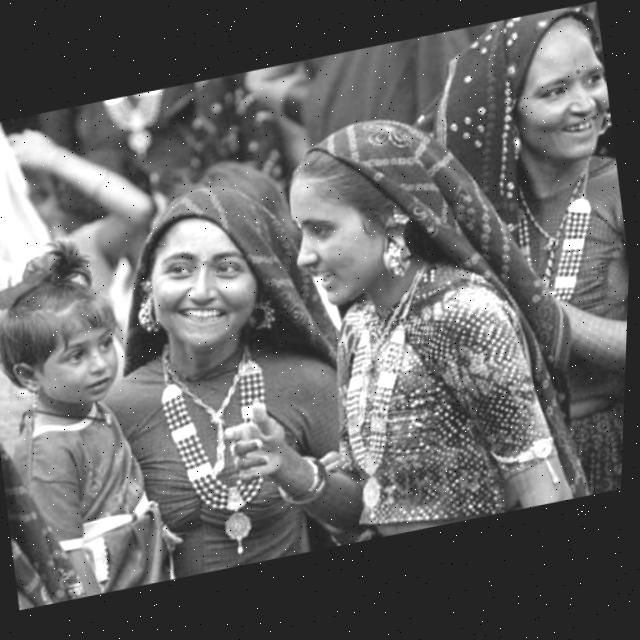face: (256, 129, 420, 332), (125, 170, 273, 370), (0, 228, 142, 427), (499, 2, 618, 203)
